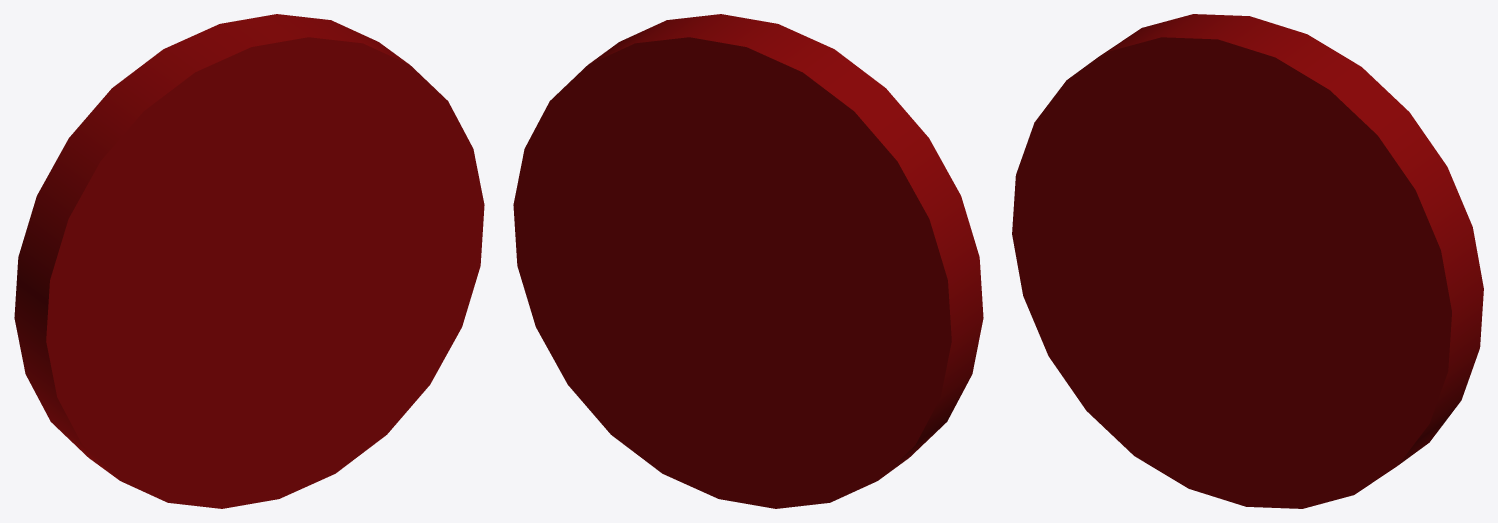
File: original-3.obj
3 views of the same model, side by side, from view 1: azimuth 30°, elevation 25°; view 2: azimuth 150°, elevation 25°; view 3: azimuth 330°, elevation 25° (orthographic).
Visible parts, largest first — view 1: mesh2/mesh2-geometry#mesh2-geometry; view 2: mesh2/mesh2-geometry#mesh2-geometry; view 3: mesh2/mesh2-geometry#mesh2-geometry.
Boxes of the visible parts, bbox=[...] form: mesh2/mesh2-geometry#mesh2-geometry: bbox=[14, 14, 484, 508]; mesh2/mesh2-geometry#mesh2-geometry: bbox=[513, 14, 983, 508]; mesh2/mesh2-geometry#mesh2-geometry: bbox=[1012, 14, 1483, 508].
Size of the model in its own units: 0.0546 by 0.0546 by 0.00684.
